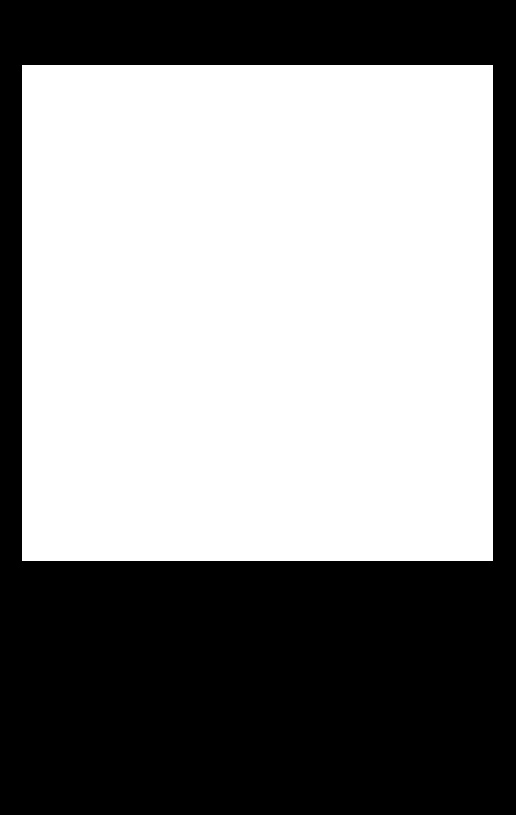table: (22, 65, 492, 560)
